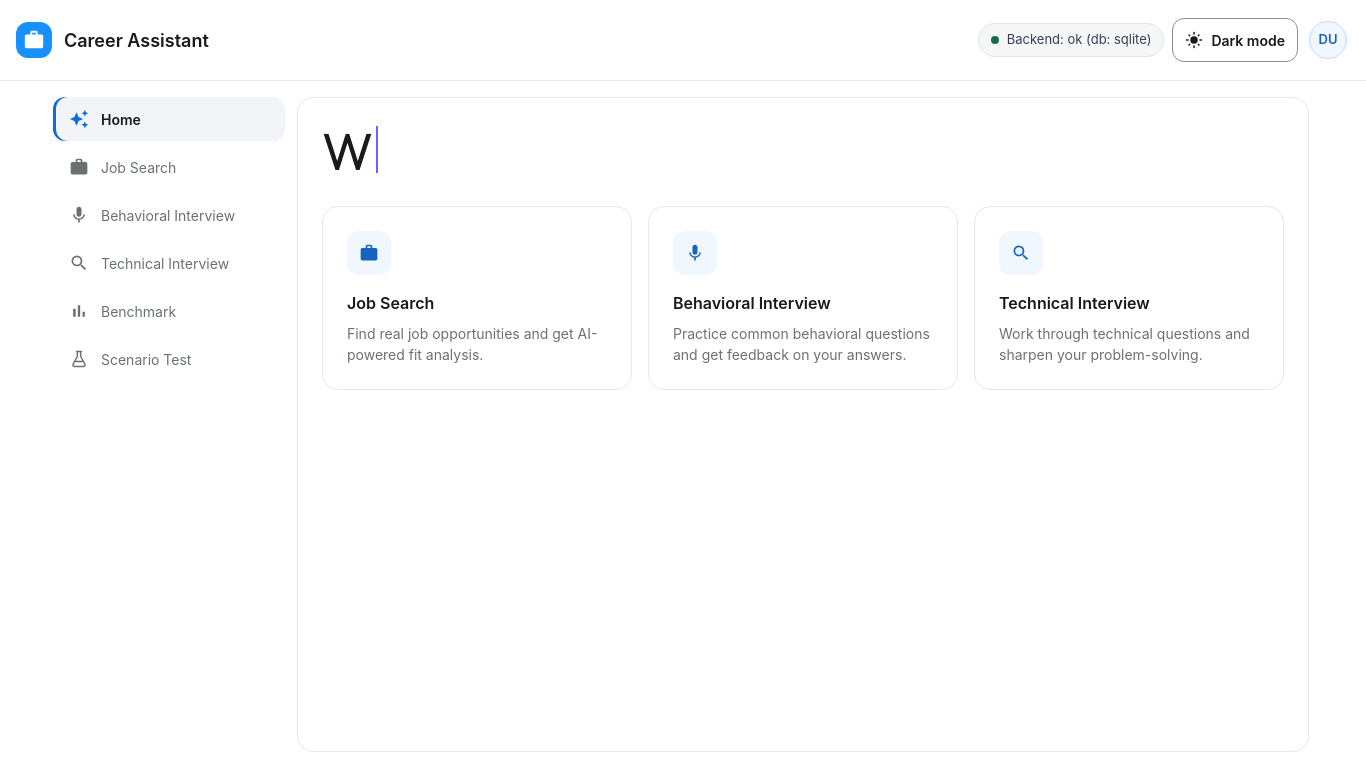
App › switches to dark mode and remembers the choice
Click the button "Dark mode".
click(1235, 40)  # box [1172, 18, 1298, 62]
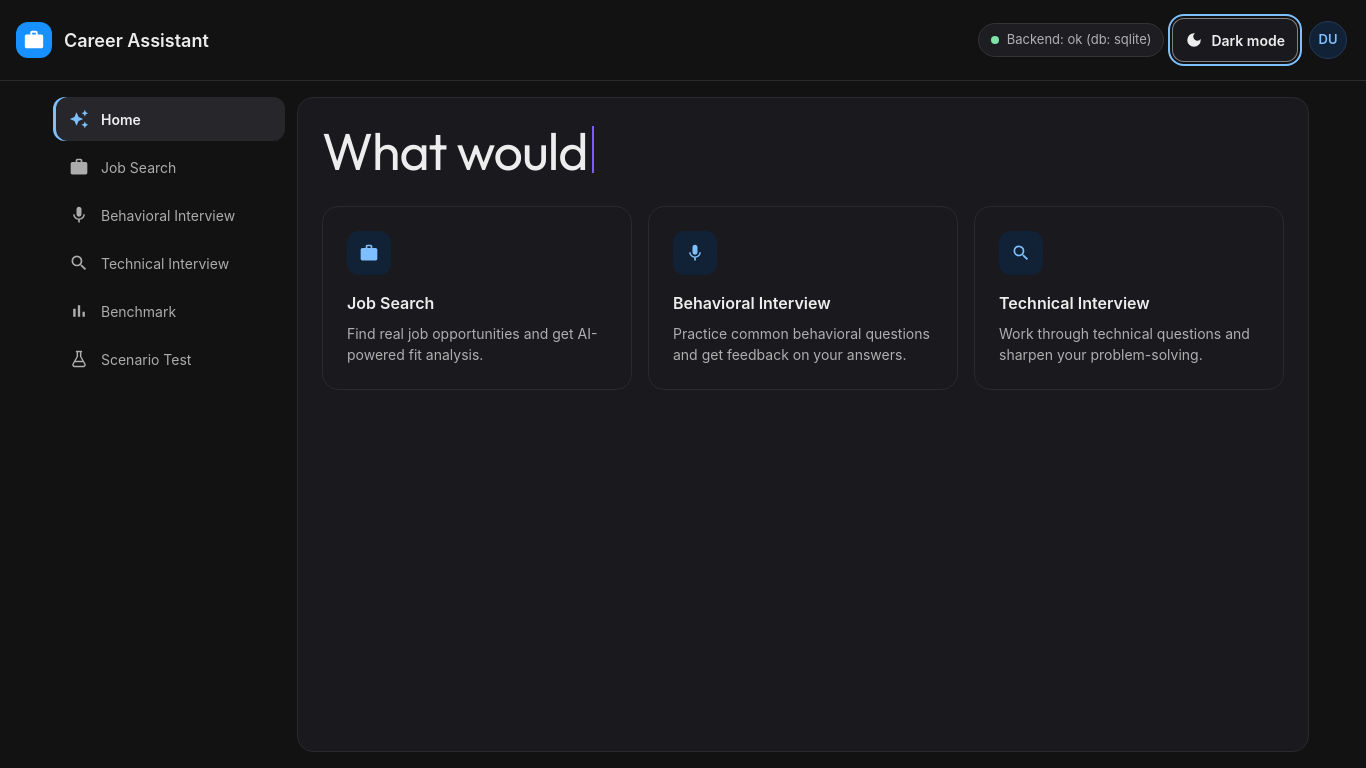
Check: the button "Dark mode" is pressed, box [1172, 18, 1298, 62]
